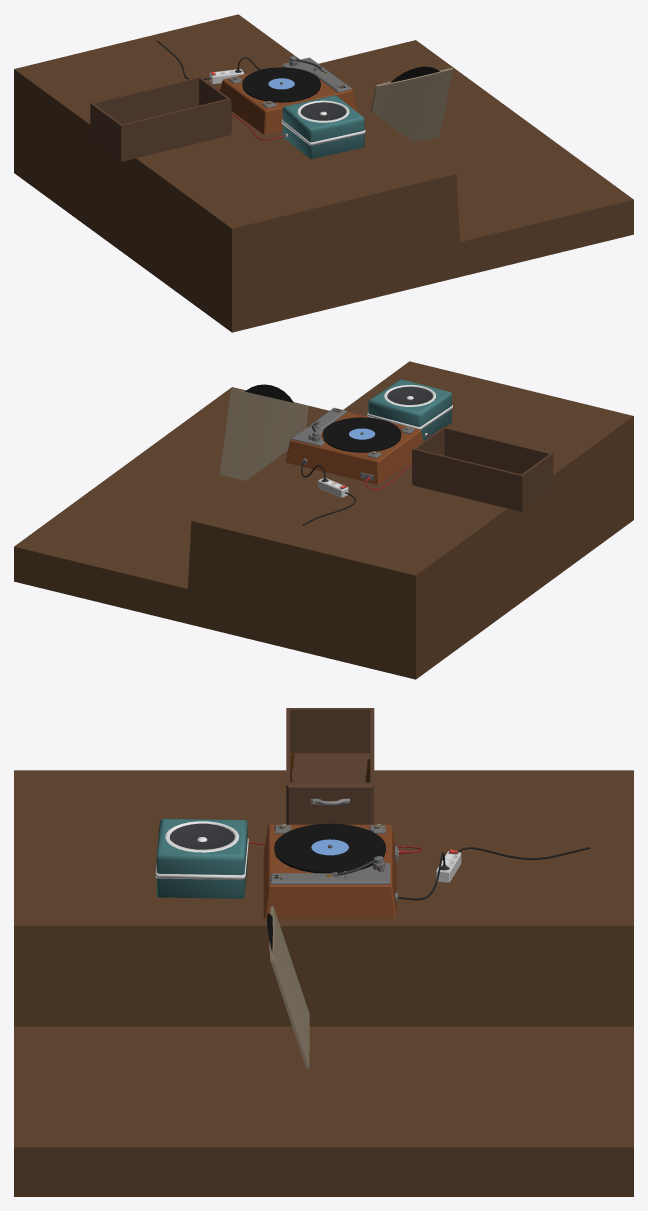
The model's file is musicplayer.fbx.
3 renders of one model, top to bottom at view 1: azimuth 30°, elevation 25°; view 2: azimuth 150°, elevation 25°; view 3: azimuth 270°, elevation 25°, orthographic. The views are drawn at different scales.
Visible parts, largest first — view 1: Table, Drawer, RecordPackage, Speaker, PlayerBody, RecordOnPlayer; view 2: Table, Drawer, RecordPackage, PlayerBody, Speaker, RecordOnPlayer, Record; view 3: Table, Drawer, PlayerBody, Speaker, RecordOnPlayer, RecordPackage.
Part boxes in pixels (x1,y1,x2,y2): Table: (14, 14, 633, 332); Drawer: (90, 76, 231, 161); RecordPackage: (370, 68, 453, 142); Speaker: (281, 95, 365, 158); PlayerBody: (220, 57, 357, 134); RecordOnPlayer: (242, 67, 320, 100); Table: (14, 361, 633, 679); Drawer: (412, 427, 553, 511); RecordPackage: (219, 388, 308, 480); PlayerBody: (286, 407, 423, 484); Speaker: (367, 379, 452, 441); RecordOnPlayer: (322, 417, 401, 450); Record: (245, 384, 293, 402); Table: (14, 770, 633, 1196); Drawer: (286, 708, 374, 824); PlayerBody: (263, 824, 398, 918); Speaker: (155, 818, 248, 898); RecordOnPlayer: (274, 823, 386, 870); RecordPackage: (269, 906, 309, 1069).
Bounding box in the file's own units: 1220 × 392 × 1105.
